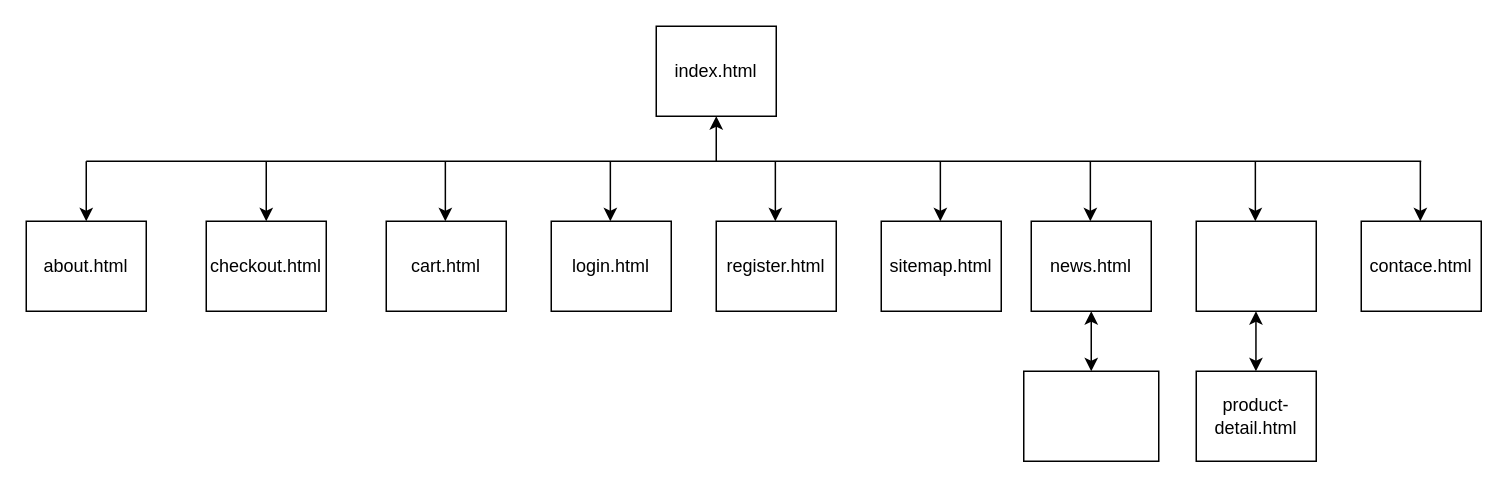
Image size: 1508x488. Some labels were removed from this diagram. The centre of each missing label's shape, as x and y in pixels:
"news-detail.html" goes at pixel 1090 415.
"product.html" goes at pixel 1255 265.
